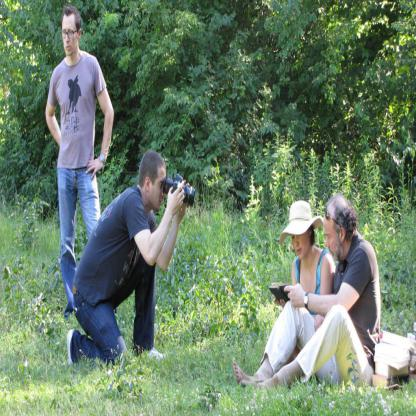face: (151, 165, 167, 211), (325, 219, 341, 261), (292, 224, 310, 260), (63, 16, 78, 57)
